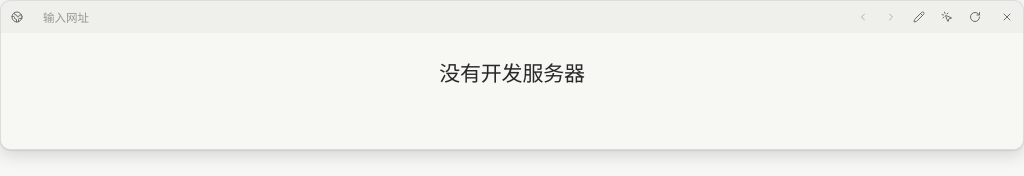
Test case: BrowserPanel › opens a local file from the Files group and follows it in the address bar
The image size is (1024, 176).
Click the button named "服务器与设置": (17,17) [5,5,29,29]
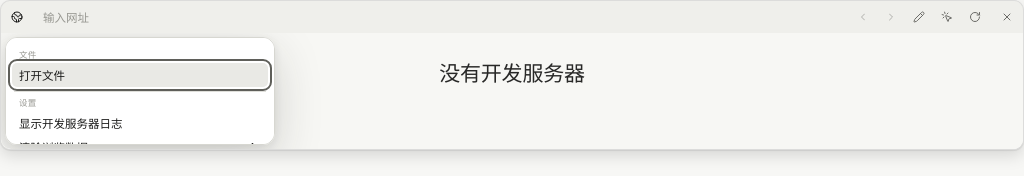
Expected: the text "文件" is shown, [19,50,37,60]
Click the menu item "打开文件": (140,75) [12,63,268,87]
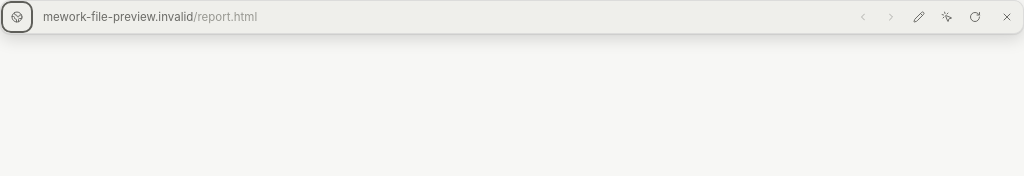
Expected: the button with aria-label "页面网址" shows "mework-file-preview.invalid", [37,5,819,29]
